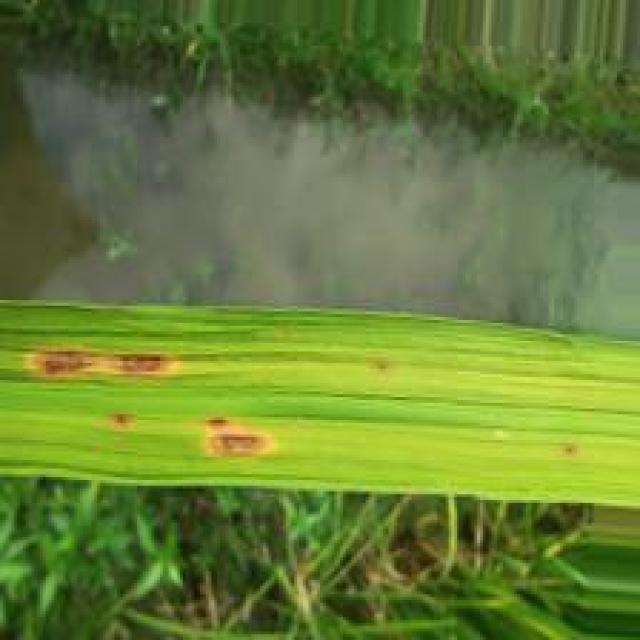Narrow_Brown_Leaf_Spot: (28, 350, 181, 380), (200, 426, 270, 461), (204, 407, 230, 426), (562, 436, 581, 458), (108, 409, 131, 427), (379, 359, 385, 371)
